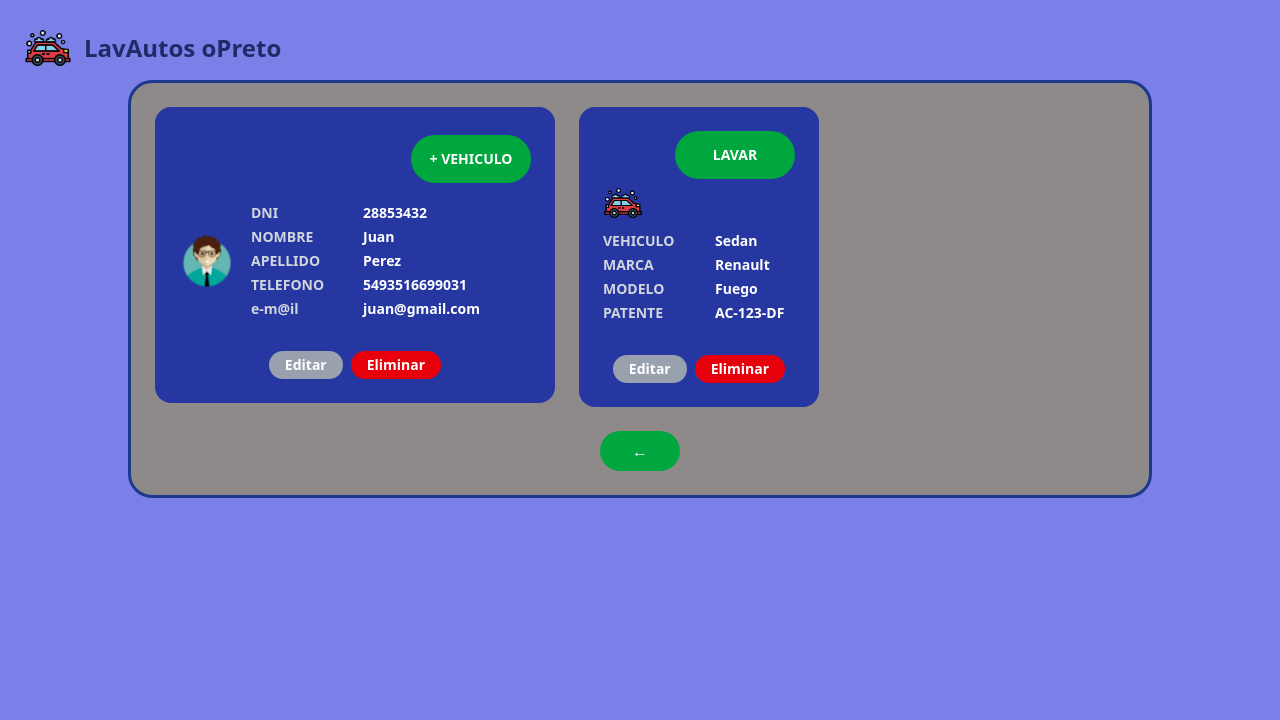
Test: ClienteInfoPage › CANCELAR cierra el popup sin eliminar
Click the button "Eliminar" below "e-m@il" at (396, 365), box [351, 351, 441, 379]
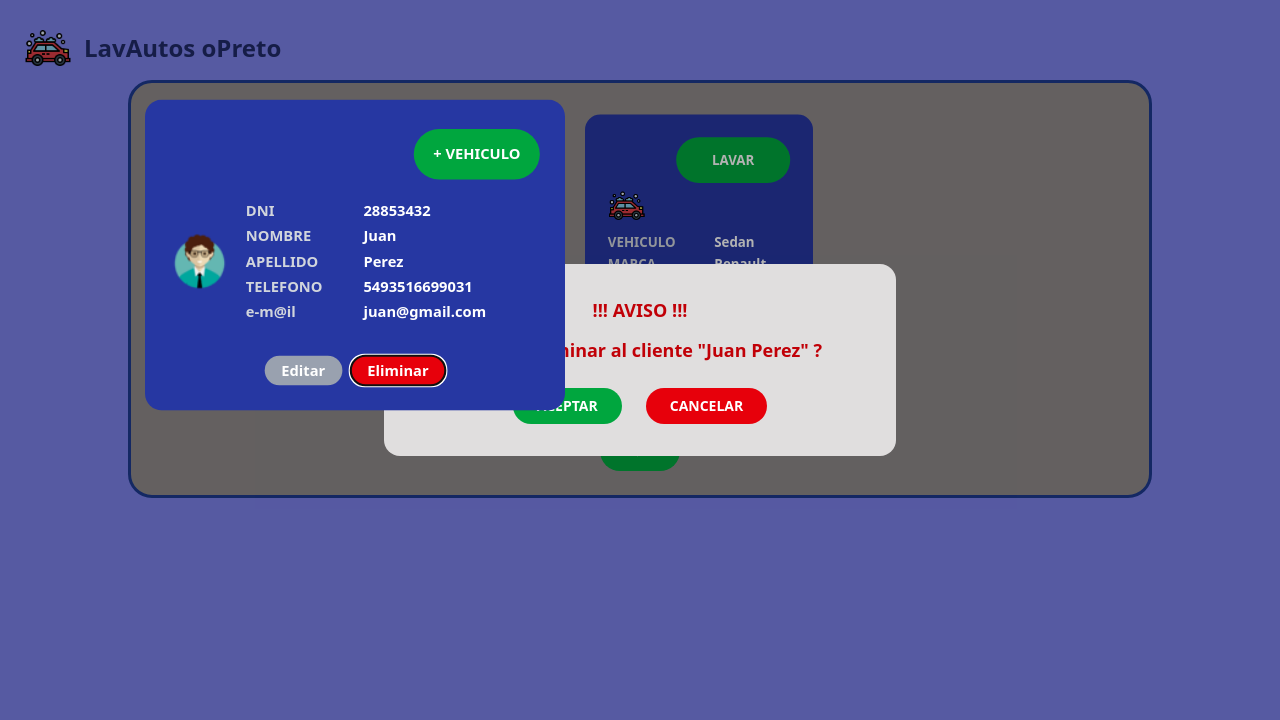
Click the button "CANCELAR" at (706, 406), box [646, 388, 767, 424]
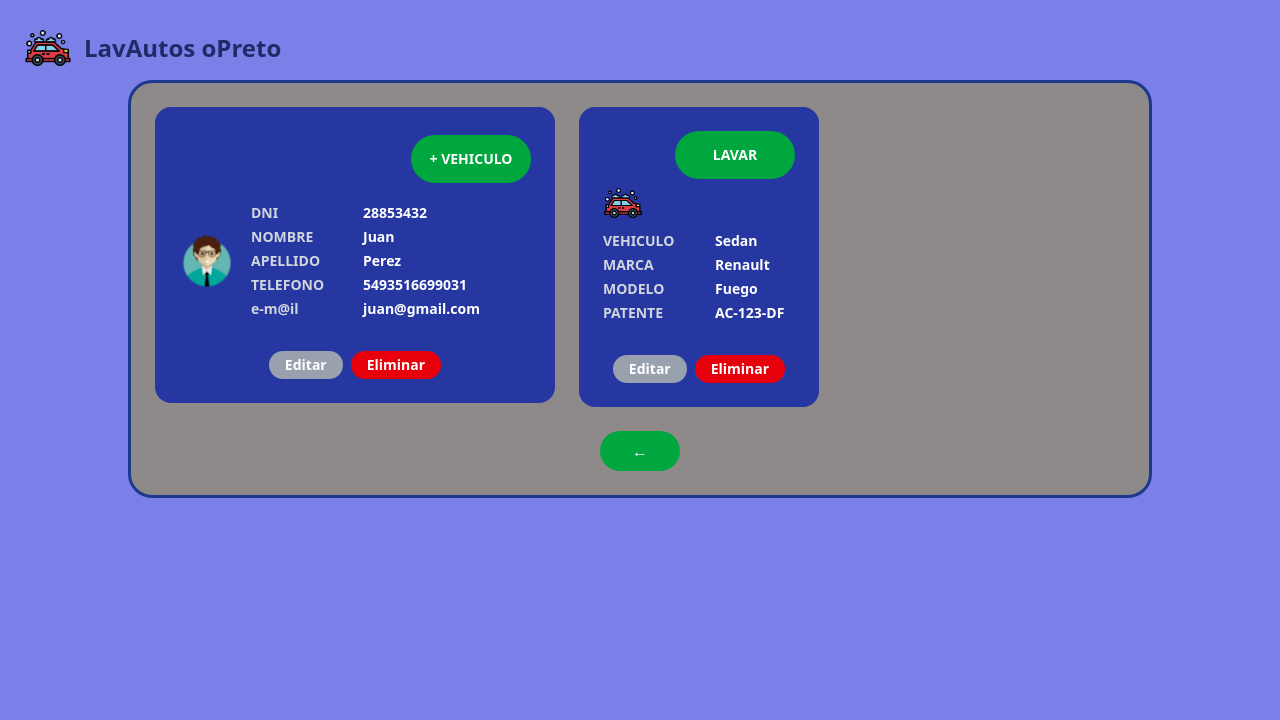
Result: the button "ACEPTAR" is gone
